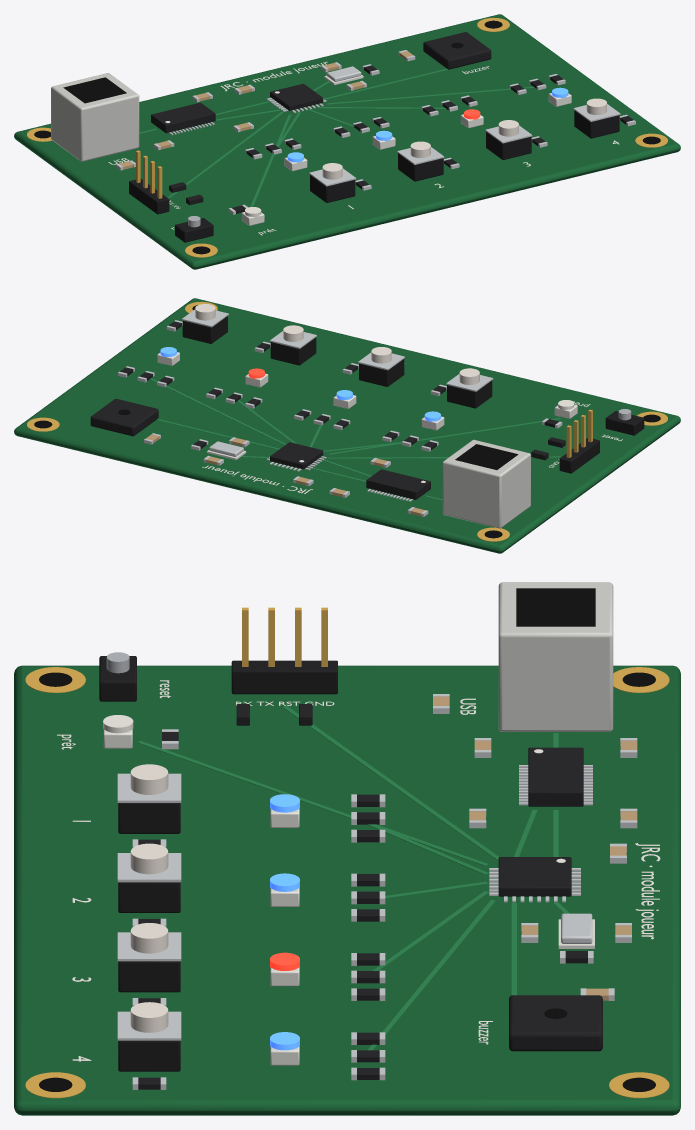
File: jrc.glb
3 views of the same model, one above another, from view 1: azimuth 30°, elevation 25°; view 2: azimuth 150°, elevation 25°; view 3: azimuth 270°, elevation 25° (orthographic). The views are drawn at different scales.
Parts seen in each view (by area): view 1: pcb, usb_corps, buzzer, cy7c65213, atmega328p, usb_ouverture, bouton_3_corps, bouton_4_corps, bouton_2_corps, bouton_1_corps, j1_plastique, reset_corps (+1 smaller); view 2: pcb, usb_corps, buzzer, cy7c65213, atmega328p, usb_ouverture, bouton_3_corps, bouton_2_corps, bouton_4_corps, bouton_1_corps, j1_plastique, reset_corps (+1 smaller); view 3: pcb, usb_corps, buzzer, cy7c65213, atmega328p, j1_plastique, usb_ouverture, bouton_3_corps, bouton_4_corps, bouton_1_corps, bouton_2_corps, reset_corps (+17 smaller).
Boxes of the visible parts, x1,y1,x2,y2 form: pcb: [14, 14, 680, 269]; usb_corps: [51, 73, 139, 161]; buzzer: [423, 32, 491, 69]; cy7c65213: [151, 102, 215, 135]; atmega328p: [266, 83, 326, 113]; usb_ouverture: [63, 77, 126, 103]; bouton_3_corps: [486, 132, 531, 159]; bouton_4_corps: [574, 110, 619, 138]; bouton_2_corps: [398, 153, 443, 181]; bouton_1_corps: [310, 175, 355, 202]; j1_plastique: [129, 179, 169, 214]; reset_corps: [175, 218, 213, 242]; pcb: [14, 298, 680, 553]; usb_corps: [442, 439, 530, 528]; buzzer: [90, 398, 158, 436]; cy7c65213: [366, 469, 430, 501]; atmega328p: [266, 442, 326, 471]; usb_ouverture: [455, 444, 518, 469]; bouton_3_corps: [270, 337, 316, 365]; bouton_2_corps: [359, 359, 404, 386]; bouton_4_corps: [182, 316, 227, 343]; bouton_1_corps: [447, 380, 492, 408]; j1_plastique: [559, 438, 599, 473]; reset_corps: [605, 411, 644, 435]; pcb: [14, 665, 680, 1115]; usb_corps: [498, 582, 613, 731]; buzzer: [509, 995, 602, 1051]; cy7c65213: [519, 747, 592, 806]; atmega328p: [489, 857, 580, 902]; j1_plastique: [231, 660, 337, 694]; usb_ouverture: [516, 588, 595, 626]; bouton_3_corps: [118, 961, 180, 992]; bouton_4_corps: [118, 1040, 180, 1071]; bouton_1_corps: [118, 803, 180, 833]; bouton_2_corps: [118, 882, 180, 912]; reset_corps: [99, 656, 136, 701].
Bounding box in the file's own units: 100 × 12.15 × 64.
